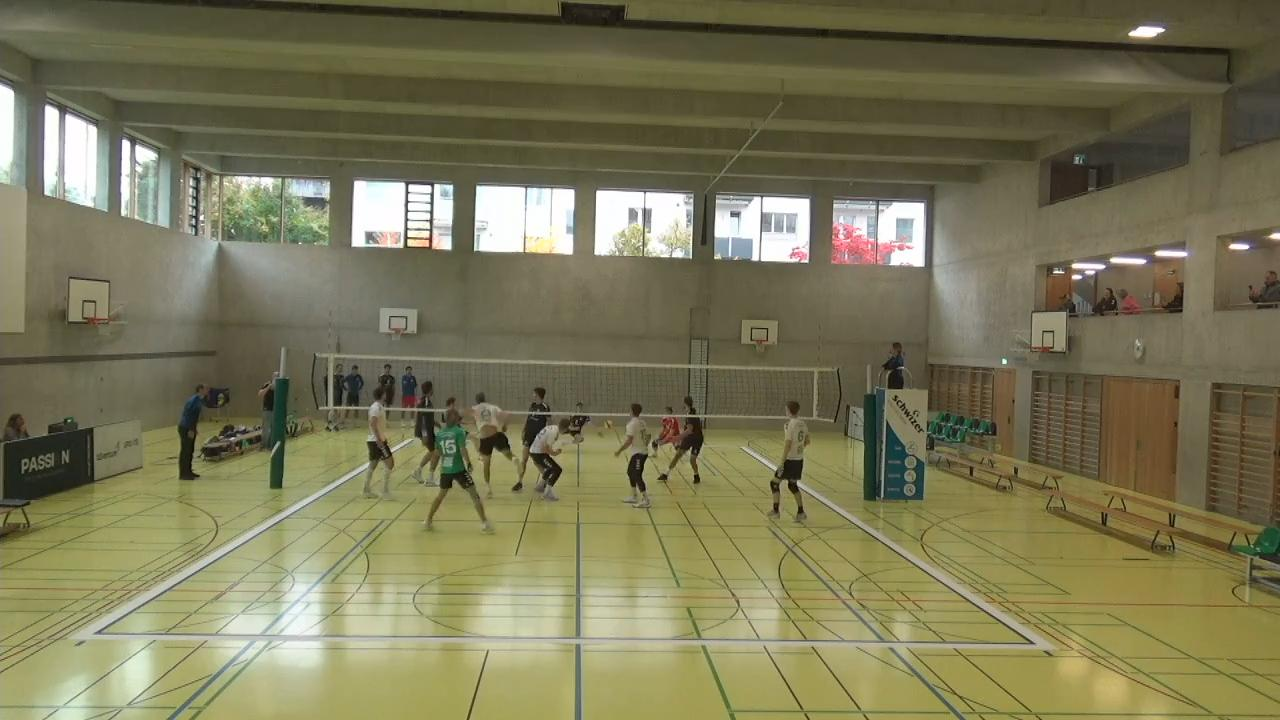Dig: (556, 401, 616, 446)
Player: (424, 405, 492, 533), (767, 399, 808, 519), (613, 401, 656, 507), (472, 391, 516, 490), (362, 386, 398, 498), (412, 378, 446, 492), (523, 413, 566, 502), (647, 402, 685, 484), (670, 396, 705, 485), (524, 386, 554, 462), (437, 393, 465, 429)
ball: (597, 412, 617, 432)
